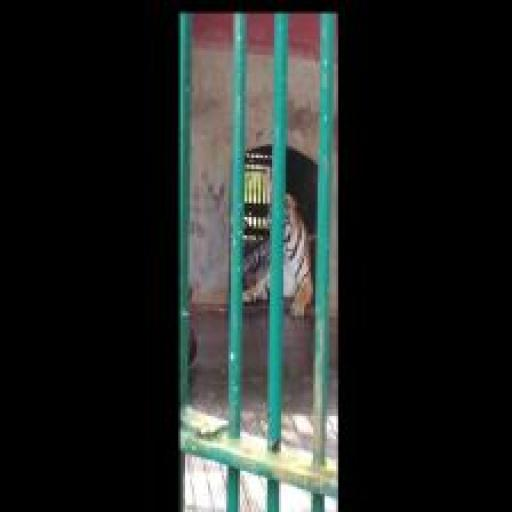Tiger: (244, 187, 318, 320)
